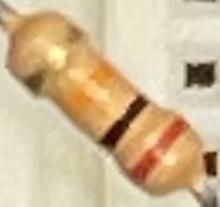Black: (98, 90, 152, 156)
Orange: (58, 58, 120, 125)
Red: (126, 111, 192, 186)
Side-Gold: (19, 23, 88, 94)
